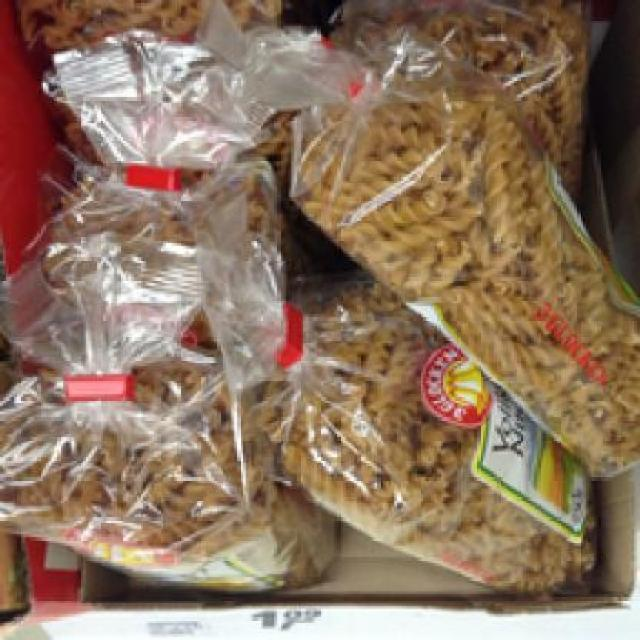Pasta: (292, 29, 638, 458), (274, 282, 594, 588), (0, 357, 337, 586)
